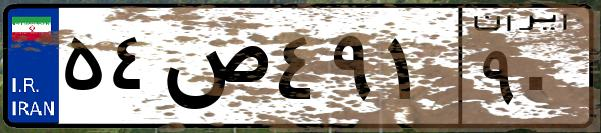0: (525, 38, 570, 115)
1: (385, 28, 445, 110)
4: (270, 28, 330, 110), (110, 28, 158, 98)
5: (57, 26, 110, 100)
9: (330, 28, 385, 110), (475, 38, 525, 113)
ص: (158, 20, 270, 120)
